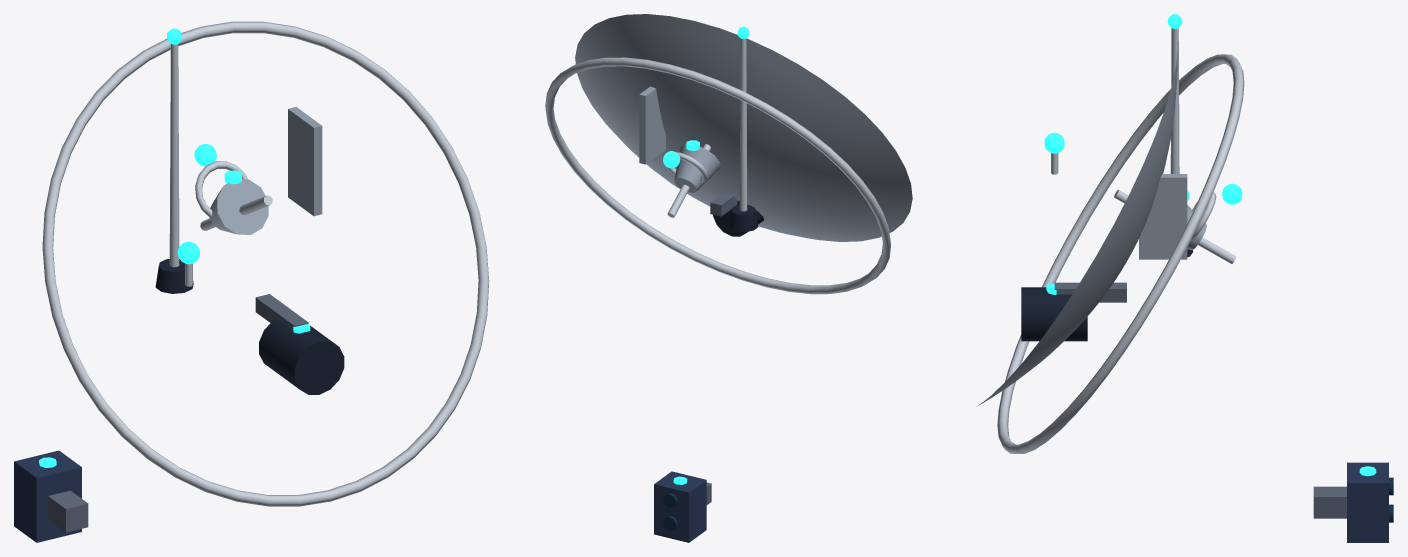
Rendered from tower_skywatch_range_s7.glb.
3 renders of one model, left to right at view 1: azimuth 30°, elevation 25°; view 2: azimuth 150°, elevation 25°; view 3: azimuth 270°, elevation 25°, orthographic. The views are drawn at different scales.
Parts seen in each view (by area): view 1: skywatch_wide_rim, skywatch_dish_counterweight, skywatch_sensor_cluster, skywatch_iff_blade, skywatch_feed_horn, skywatch_whip, skywatch_sensor_mount, skywatch_dish_cw_arm, skywatch_whip_base, skywatch_feed_horn_ring; view 2: skywatch_wide_dish, skywatch_wide_rim, skywatch_sensor_cluster, skywatch_iff_blade, skywatch_feed_horn, skywatch_whip, skywatch_whip_base, skywatch_dish_cw_arm, skywatch_dish_counterweight; view 3: skywatch_wide_rim, skywatch_wide_dish, skywatch_sensor_cluster, skywatch_iff_blade, skywatch_dish_counterweight, skywatch_sensor_mount, skywatch_whip, skywatch_dish_cw_arm.
Part boxes in pixels (x1=…): skywatch_wide_rim: x1=42, y1=21, x2=489, y2=506; skywatch_dish_counterweight: x1=259, y1=319, x2=344, y2=394; skywatch_sensor_cluster: x1=14, y1=450, x2=81, y2=542; skywatch_iff_blade: x1=288, y1=107, x2=322, y2=216; skywatch_feed_horn: x1=209, y1=179, x2=268, y2=234; skywatch_whip: x1=169, y1=44, x2=179, y2=267; skywatch_sensor_mount: x1=48, y1=490, x2=88, y2=532; skywatch_dish_cw_arm: x1=255, y1=294, x2=308, y2=330; skywatch_whip_base: x1=155, y1=259, x2=193, y2=293; skywatch_feed_horn_ring: x1=195, y1=161, x2=247, y2=218; skywatch_wide_dish: x1=575, y1=14, x2=912, y2=241; skywatch_wide_rim: x1=545, y1=57, x2=890, y2=294; skywatch_sensor_cluster: x1=654, y1=471, x2=706, y2=542; skywatch_iff_blade: x1=639, y1=86, x2=665, y2=164; skywatch_feed_horn: x1=674, y1=144, x2=720, y2=192; skywatch_whip: x1=739, y1=38, x2=747, y2=211; skywatch_whip_base: x1=729, y1=205, x2=758, y2=231; skywatch_dish_cw_arm: x1=710, y1=193, x2=737, y2=216; skywatch_dish_counterweight: x1=713, y1=201, x2=763, y2=236; skywatch_wide_rim: x1=997, y1=54, x2=1244, y2=453; skywatch_wide_dish: x1=977, y1=51, x2=1177, y2=406; skywatch_sensor_cluster: x1=1347, y1=462, x2=1388, y2=542; skywatch_iff_blade: x1=1139, y1=174, x2=1187, y2=259; skywatch_dish_counterweight: x1=1021, y1=287, x2=1087, y2=341; skywatch_sensor_mount: x1=1313, y1=486, x2=1346, y2=518; skywatch_whip: x1=1170, y1=28, x2=1179, y2=173; skywatch_dish_cw_arm: x1=1054, y1=282, x2=1126, y2=302.
Bounding box in the file's own units: 1.52 × 1.93 × 1.5.
